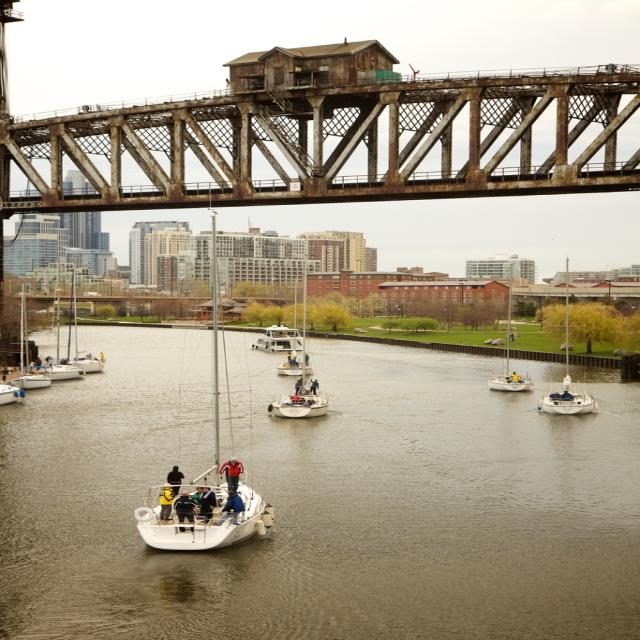Boat: (128, 464, 277, 556), (534, 256, 598, 416), (268, 268, 328, 418), (485, 273, 534, 392), (66, 266, 102, 372), (278, 270, 312, 374), (248, 323, 300, 354), (39, 366, 82, 380), (5, 372, 50, 385), (0, 384, 22, 407)
